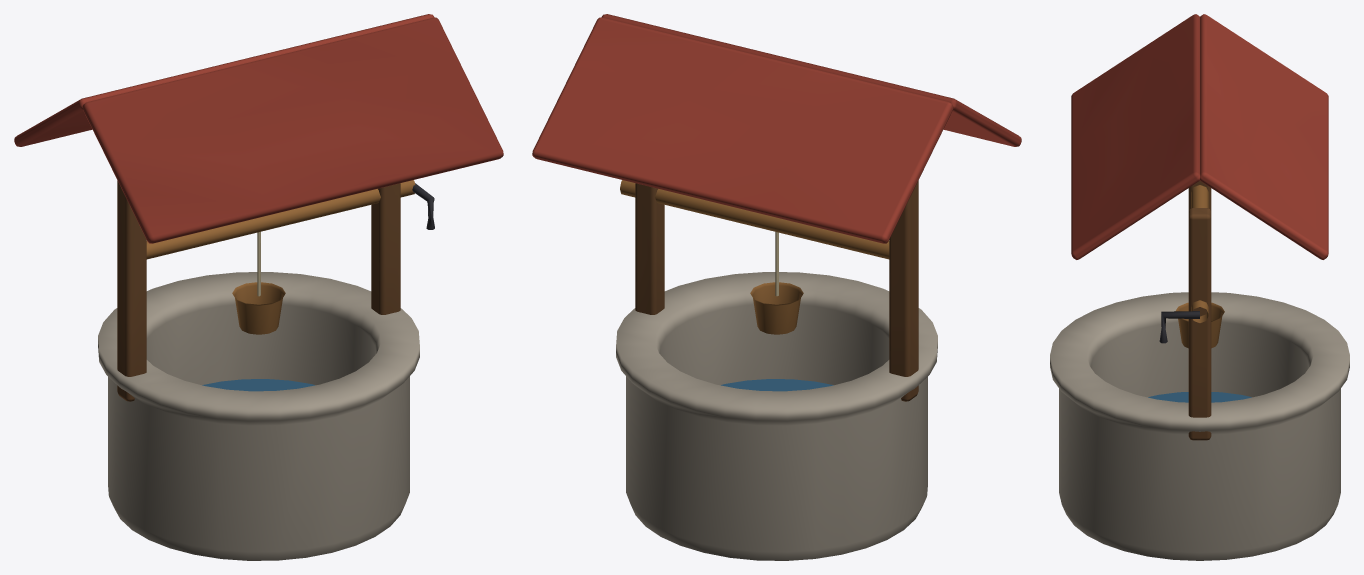
The model's file is well.glb.
3 renders of one model, left to right at view 1: azimuth 30°, elevation 25°; view 2: azimuth 150°, elevation 25°; view 3: azimuth 270°, elevation 25°, orthographic. The views are drawn at different scales.
Parts seen in each view (by area): view 1: well_main, well_water; view 2: well_main, well_water; view 3: well_main, well_water.
Part boxes in pixels (left/top/right/bottom): well_main: left=14, top=14, right=503, bottom=560; well_water: left=202, top=379, right=314, bottom=391; well_main: left=532, top=14, right=1021, bottom=560; well_water: left=721, top=379, right=833, bottom=391; well_main: left=1050, top=14, right=1349, bottom=560; well_water: left=1148, top=392, right=1251, bottom=402.
Bounding box in the file's own units: 1.68 × 1.99 × 1.32.
